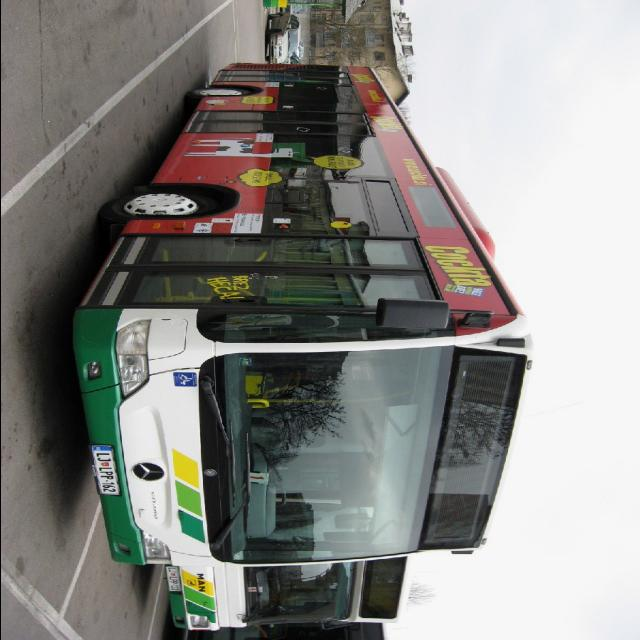bus: (58, 61, 541, 576)
